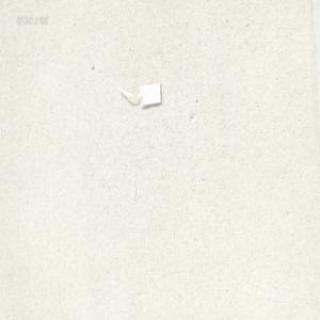LuggageTagtrack_idkeyframe: (115, 78, 162, 108)
